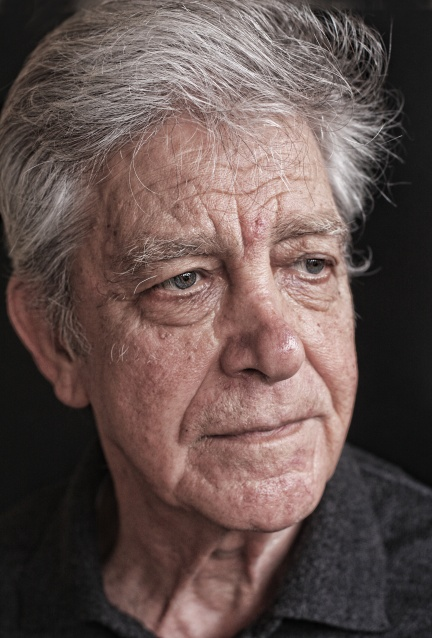Forehead: (71, 120, 345, 240)
